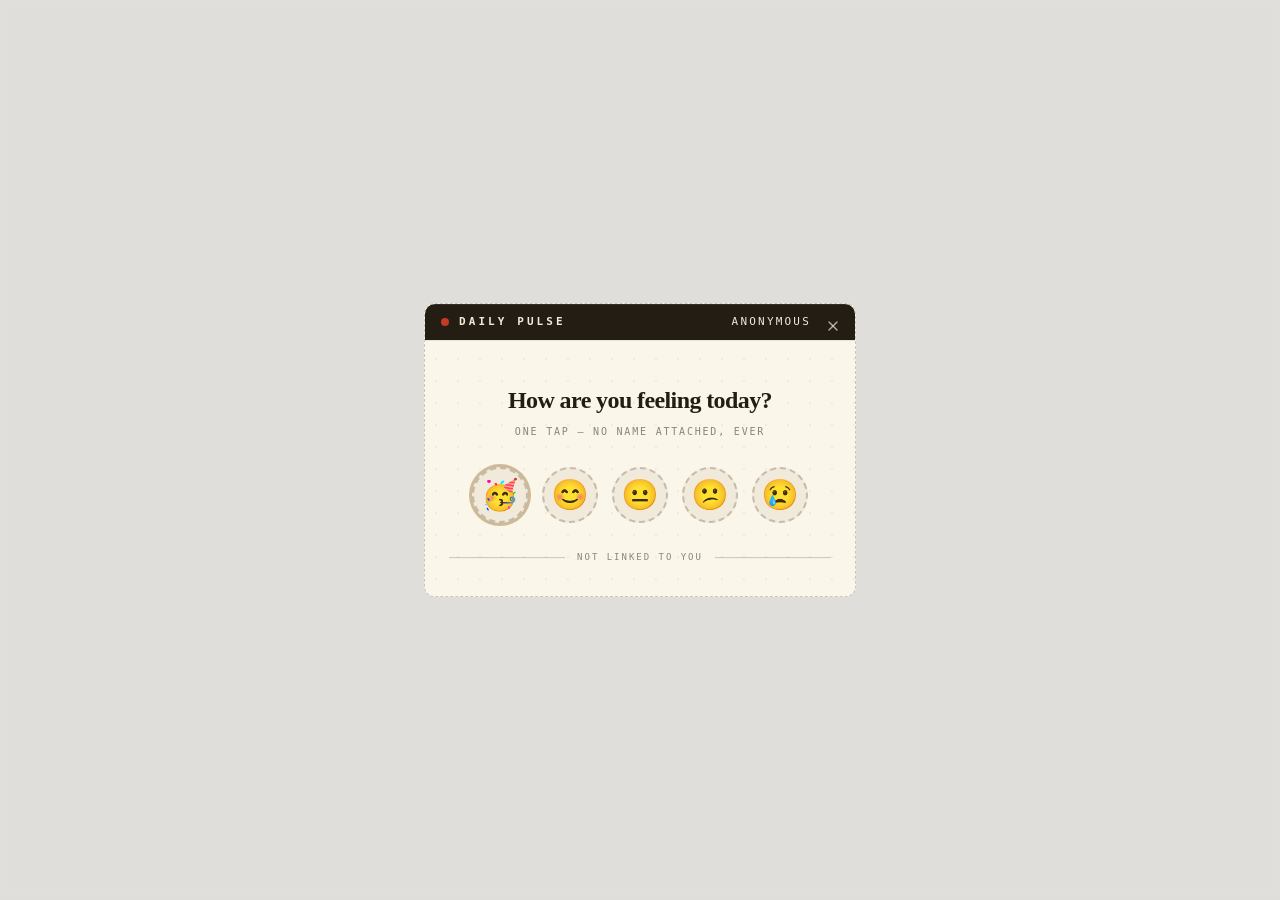
it: MoodCheckInModal › disables the mood buttons while the submission is pending
Click the button named "Happy": coordinates (570, 495) x1=542 y1=467 x2=598 y2=523
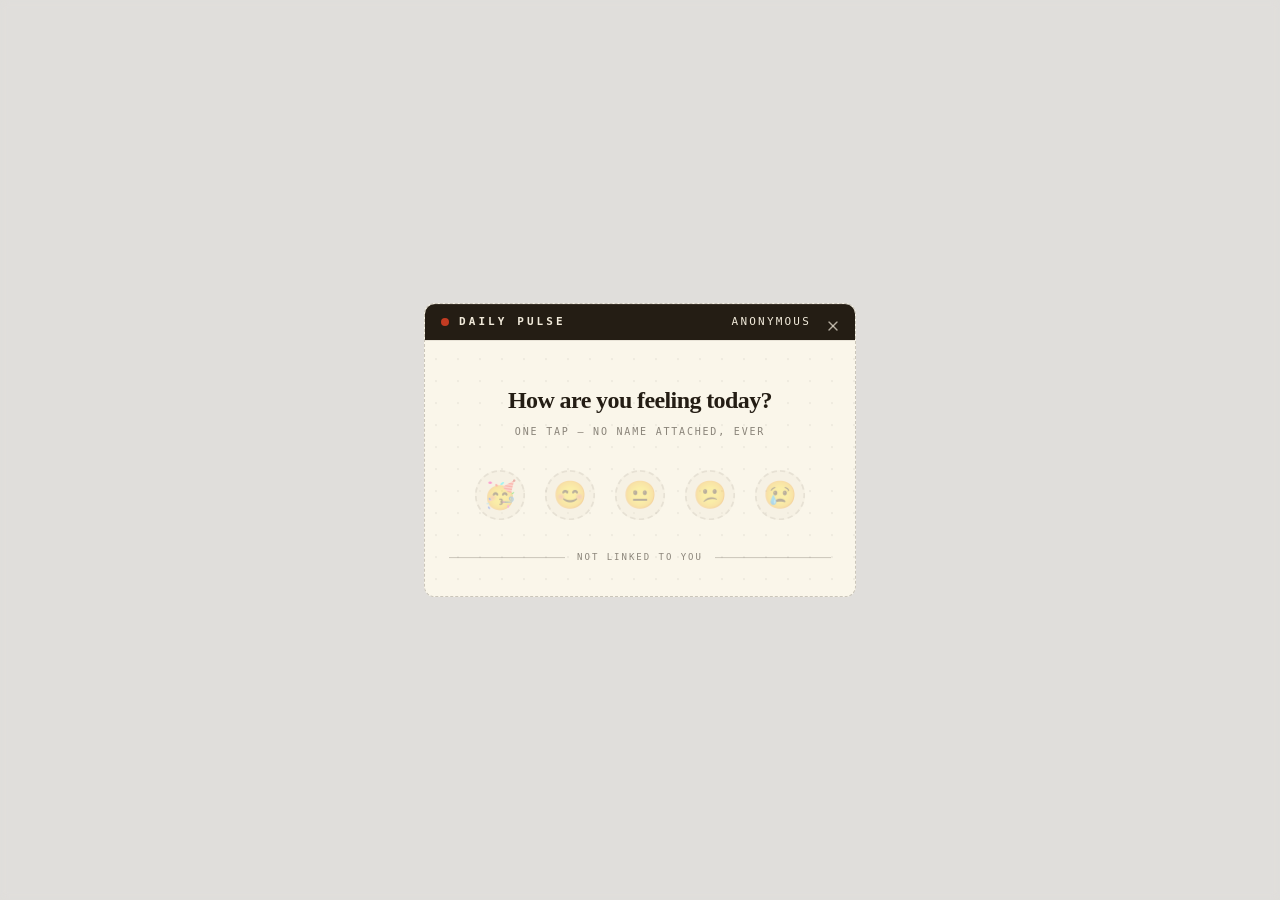
expect the button named "Happy" is disabled: met, box x1=545 y1=470 x2=595 y2=520
expect the button named "Neutral" is disabled: met, box x1=615 y1=470 x2=665 y2=520
